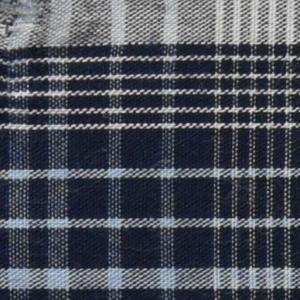Damage: (1, 1, 58, 86)
